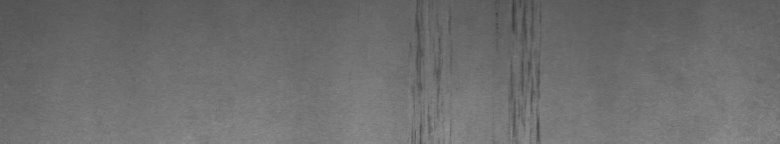ka: (412, 4, 543, 136)
